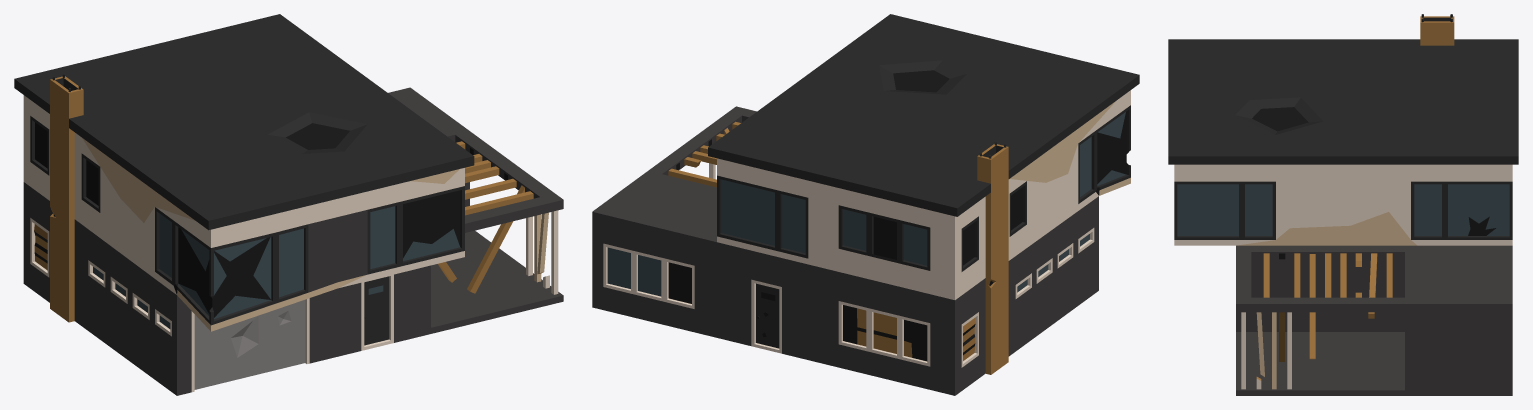
File: apocalypse_building-house-modern-apocalypse-b.fbx
3 views of the same model, side by side, from view 1: azimuth 30°, elevation 25°; view 2: azimuth 150°, elevation 25°; view 3: azimuth 270°, elevation 25° (orthographic). The views are drawn at different scales.
Visible parts, largest first — view 1: apocalypse_building_house_modern_apocalypse_b; view 2: apocalypse_building_house_modern_apocalypse_b; view 3: apocalypse_building_house_modern_apocalypse_b.
Part boxes in pixels (left/top/right/bottom): apocalypse_building_house_modern_apocalypse_b: left=14, top=14, right=563, bottom=395; apocalypse_building_house_modern_apocalypse_b: left=592, top=14, right=1139, bottom=395; apocalypse_building_house_modern_apocalypse_b: left=1168, top=14, right=1518, bottom=395.
Size of the model in its own units: 200 by 113 by 171.
